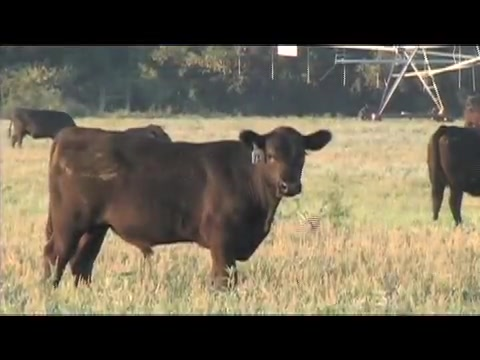cow: (44, 126, 335, 293), (51, 126, 178, 195), (427, 125, 480, 227), (10, 111, 80, 149), (465, 92, 480, 128)
